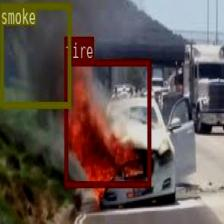fire: (64, 58, 151, 186)
smoke: (0, 2, 70, 108)
